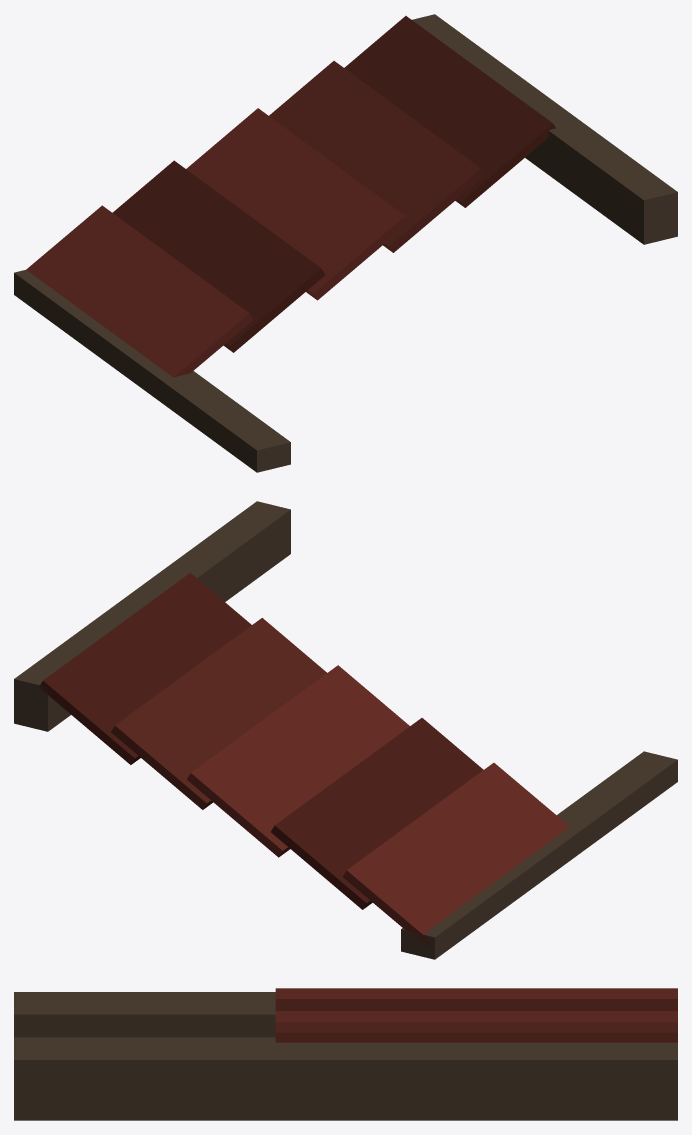
File: A_Roof01.fbx
The picture shows the model from 3 angles, top to bottom: view 1: azimuth 30°, elevation 25°; view 2: azimuth 150°, elevation 25°; view 3: azimuth 270°, elevation 25°; orthographic projection. The views are drawn at different scales.
Parts seen in each view (by area): view 1: A_Roof01; view 2: A_Roof01; view 3: A_Roof01.
Part boxes in pixels (box(x1,y1,x2,y2)): A_Roof01: box(14, 14, 677, 472); A_Roof01: box(14, 501, 677, 959); A_Roof01: box(14, 988, 677, 1120).
Size of the model in its own units: 99 by 41.27 by 99.
